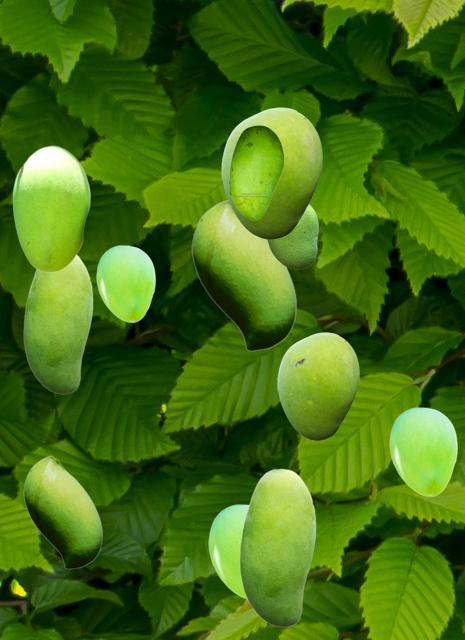green_mango: (191, 199, 295, 350), (221, 107, 321, 238), (239, 468, 315, 626), (12, 145, 89, 271), (23, 255, 92, 393), (23, 455, 101, 568), (277, 332, 358, 439), (389, 407, 456, 495), (228, 125, 283, 219), (96, 245, 154, 321), (208, 504, 247, 598), (267, 204, 317, 268)
